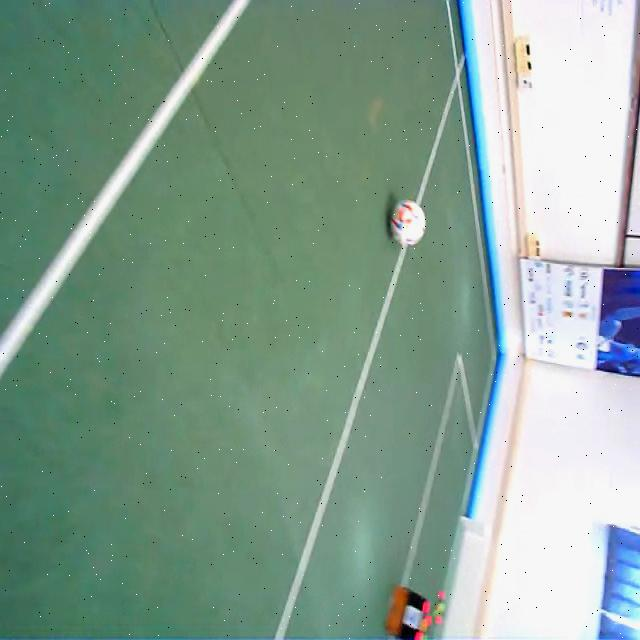ball: (387, 196, 428, 247)
